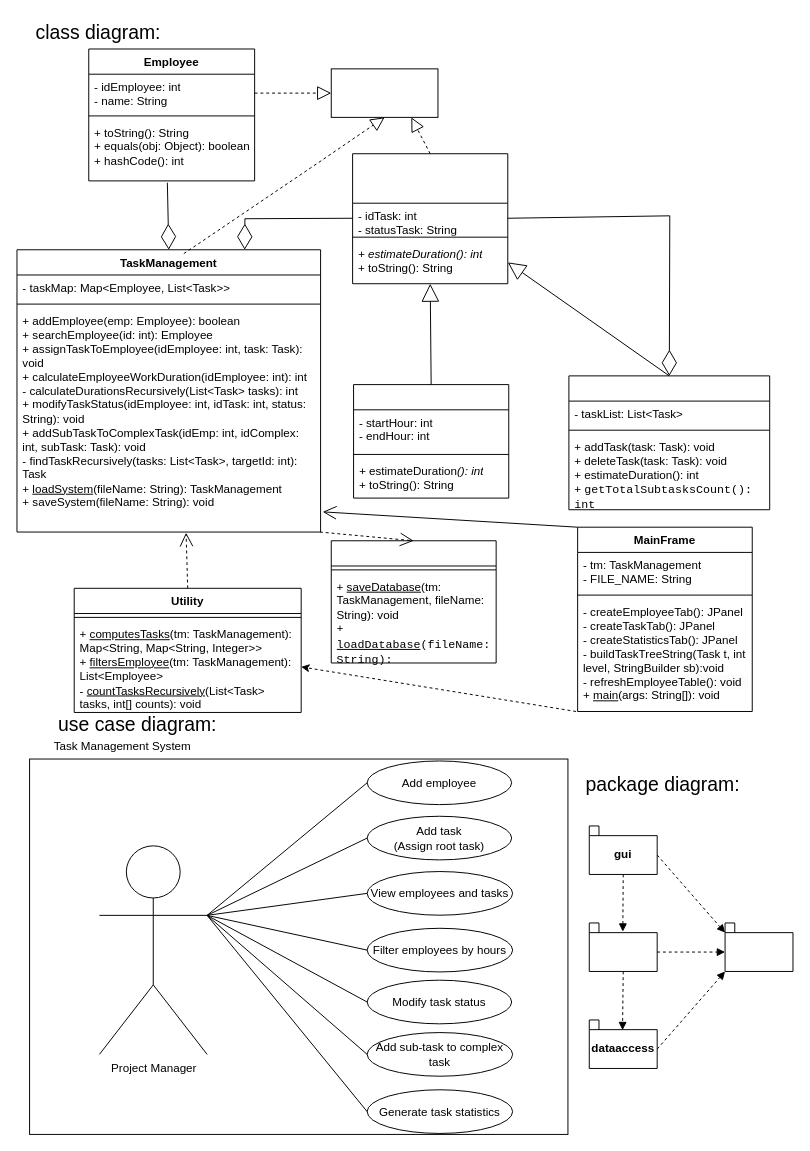
Some shapes in this 810 by 1151 pixel diagram are drawn without their labels. Here are the shapes that lost their labels. From the top down, the box of each, then its label:
(330, 68, 438, 117): «interface» Serializable
(352, 153, 508, 284): <<abstract>> <<sealed>> Task
(353, 384, 509, 498): SimpleTask
(568, 375, 770, 510): ComplexTask
(330, 540, 496, 663): SerializationOperations
(588, 922, 657, 971): logic
(724, 922, 793, 971): model
